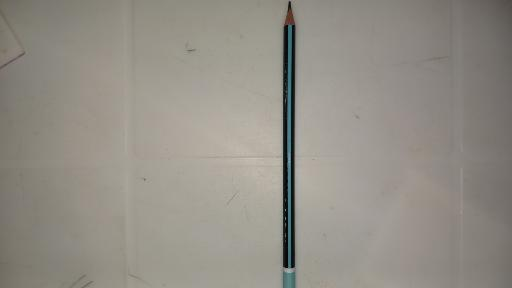Pencil: (282, 0, 294, 288)
